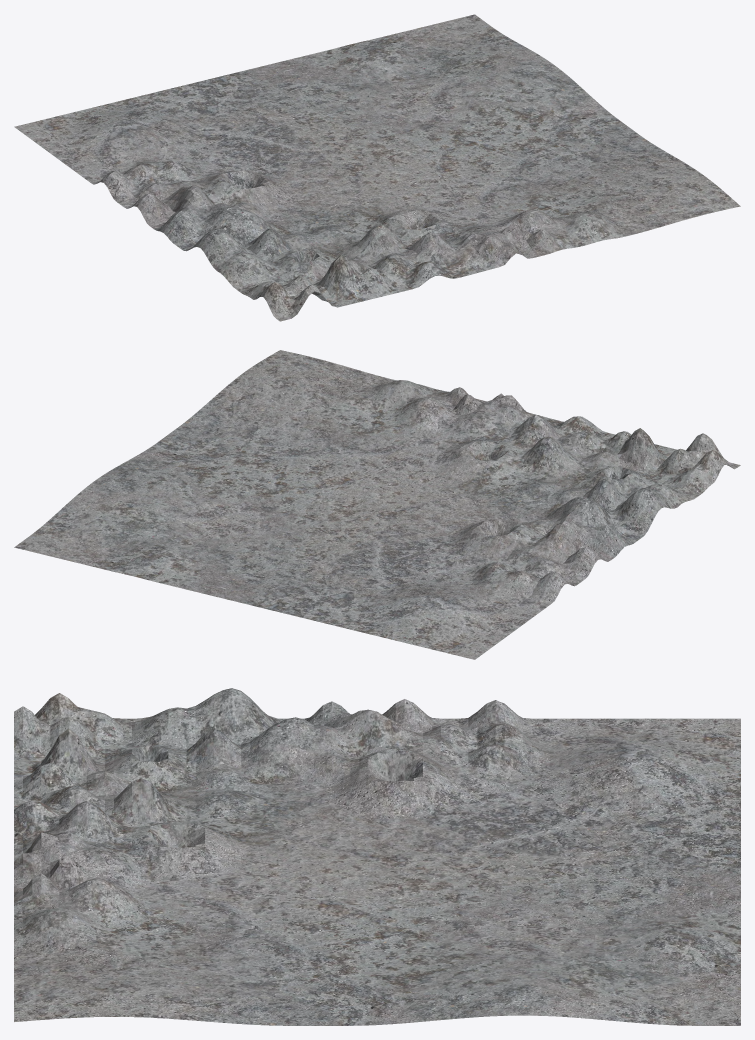
Rendered from MoonSurface-transformed.glb.
3 views of the same model, one above another, from view 1: azimuth 30°, elevation 25°; view 2: azimuth 150°, elevation 25°; view 3: azimuth 270°, elevation 25° (orthographic). The views are drawn at different scales.
Parts seen in each view (by area): view 1: Grid; view 2: Grid; view 3: Grid.
Boxes of the visible parts, left/top/right/bottom form: Grid: left=14, top=14, right=740, bottom=321; Grid: left=14, top=350, right=740, bottom=659; Grid: left=14, top=688, right=740, bottom=1025.
Size of the model in its own units: 40 by 3.75 by 40.
1 material, 1 textured.
